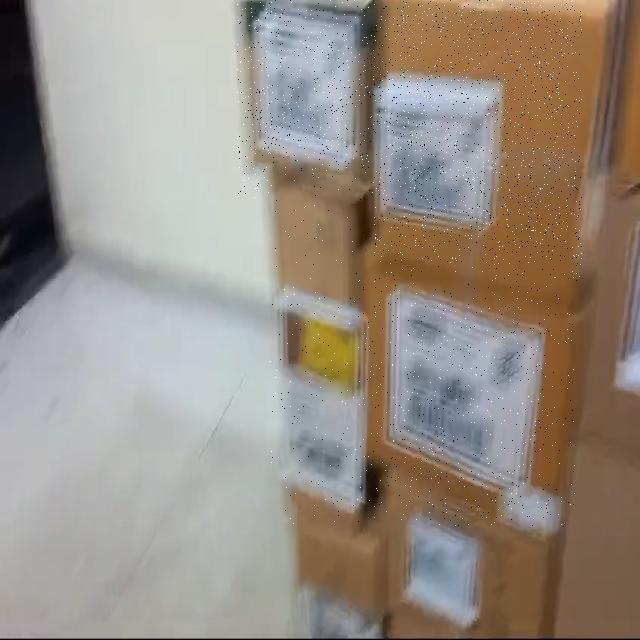BoxFace: (374, 0, 582, 285), (363, 263, 575, 526), (270, 172, 367, 526), (237, 0, 380, 199)
